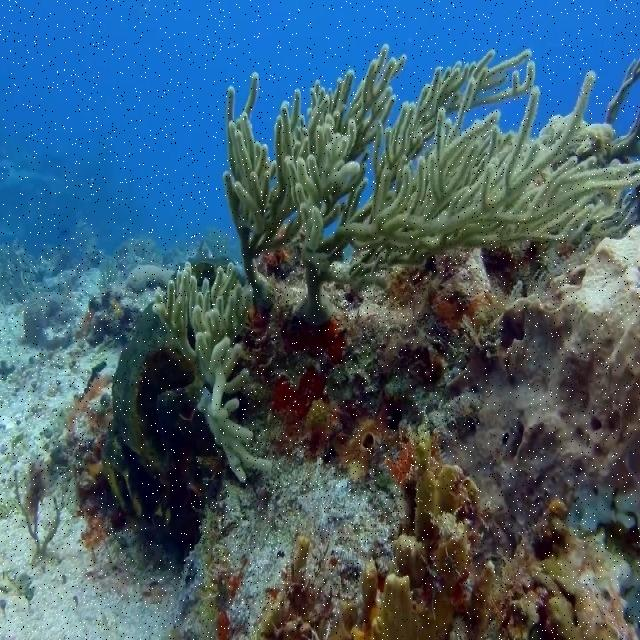aquatic plants: (288, 48, 639, 320), (222, 45, 408, 314), (153, 261, 267, 479)
